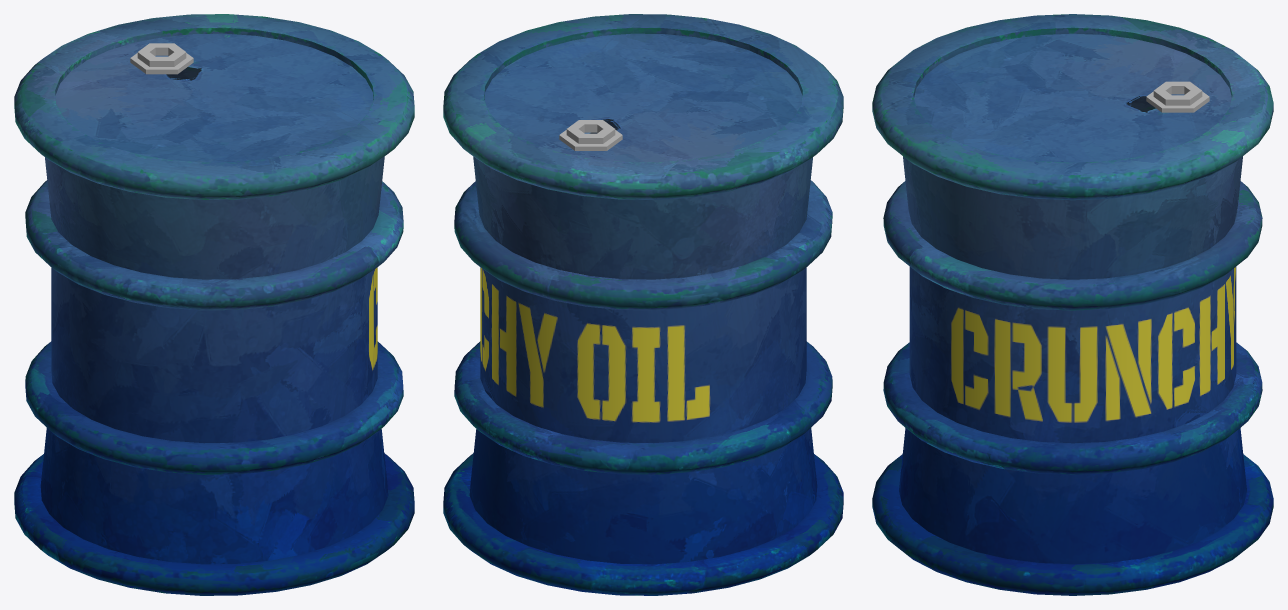
Rendered from crunchy_oil.gltf.
3 renders of one model, left to right at view 1: azimuth 30°, elevation 25°; view 2: azimuth 150°, elevation 25°; view 3: azimuth 270°, elevation 25°, orthographic.
Parts seen in each view (by area): view 1: CrunchyOil; view 2: CrunchyOil; view 3: CrunchyOil.
Part boxes in pixels (x1,y1,x2,y2): CrunchyOil: (14,14,414,595); CrunchyOil: (443,14,843,595); CrunchyOil: (872,14,1273,595).
Size of the model in its own units: 0.9201 by 1.07 by 0.9201.
1 material, 1 textured.
